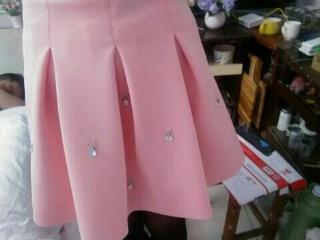skirt: (22, 0, 245, 239)
